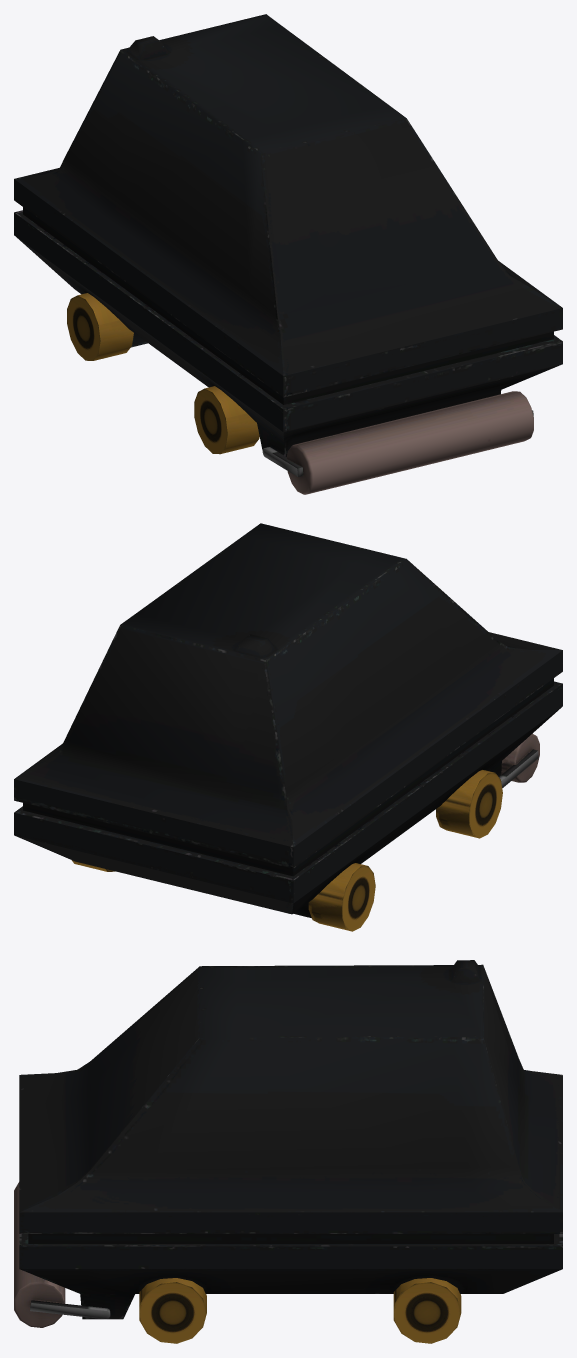
The model's file is cleaningBot.dae.
The picture shows the model from 3 angles, top to bottom: view 1: azimuth 30°, elevation 25°; view 2: azimuth 150°, elevation 25°; view 3: azimuth 270°, elevation 25°; orthographic projection.
Parts seen in each view (by area): view 1: polySurface1; view 2: polySurface1; view 3: polySurface1.
Boxes of the visible parts, <box> form: polySurface1: <box>14,14,562,494</box>; polySurface1: <box>14,523,562,931</box>; polySurface1: <box>14,960,562,1343</box>.
Bounding box in the file's own units: 0.5887 × 0.57 × 0.9929.
Materials: 1 (1 with a texture image).
